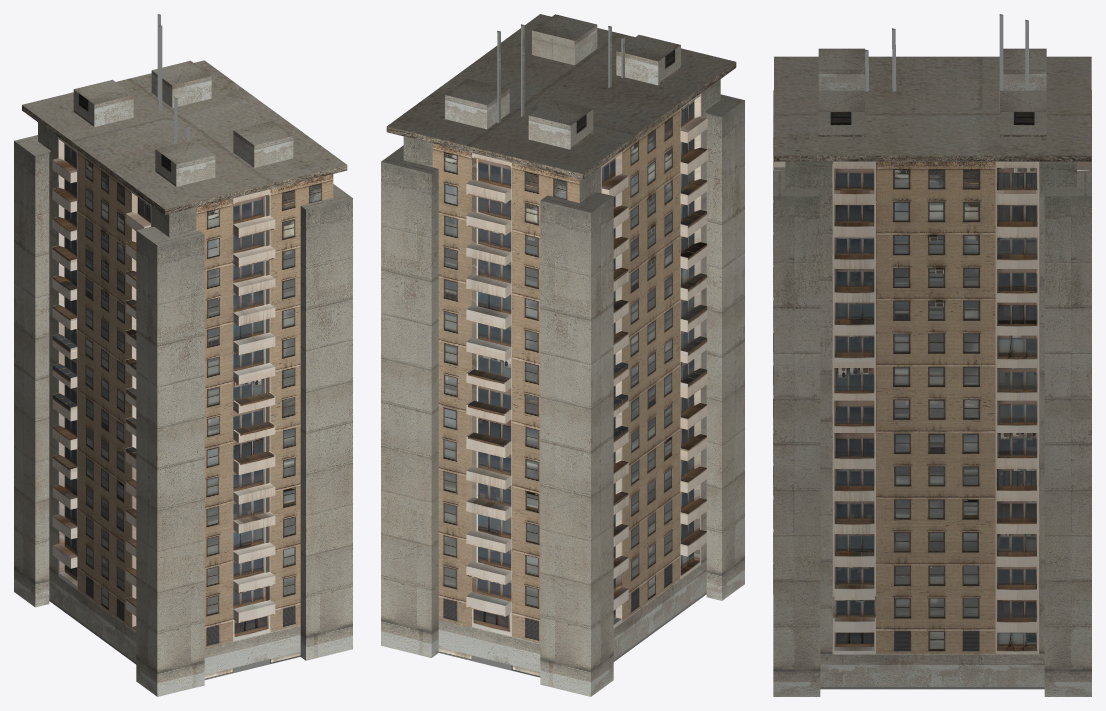
The model's file is loongbuilding.obj.
The picture shows the model from 3 angles, left to right: view 1: azimuth 30°, elevation 25°; view 2: azimuth 150°, elevation 25°; view 3: azimuth 270°, elevation 25°; orthographic projection. The views are drawn at different scales.
Parts seen in each view (by area): view 1: loongbuilding; view 2: loongbuilding; view 3: loongbuilding.
Boxes of the visible parts, x1,y1,x2,y2 form: loongbuilding: (14,14,352,696); loongbuilding: (381,14,744,696); loongbuilding: (773,14,1091,696).
Size of the model in its own units: 24.98 by 69.68 by 31.78.
